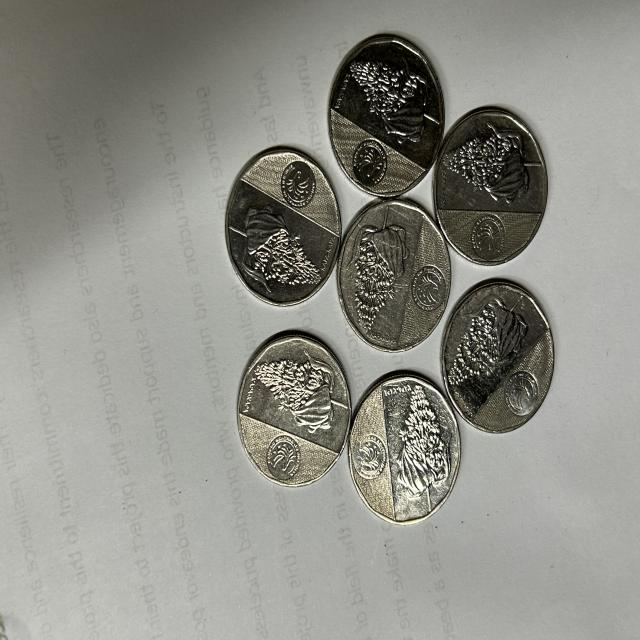10_New_Back: (228, 183, 322, 302), (248, 341, 344, 442), (442, 112, 539, 203), (350, 41, 436, 143), (383, 374, 451, 502), (449, 288, 533, 383), (349, 208, 407, 336)
